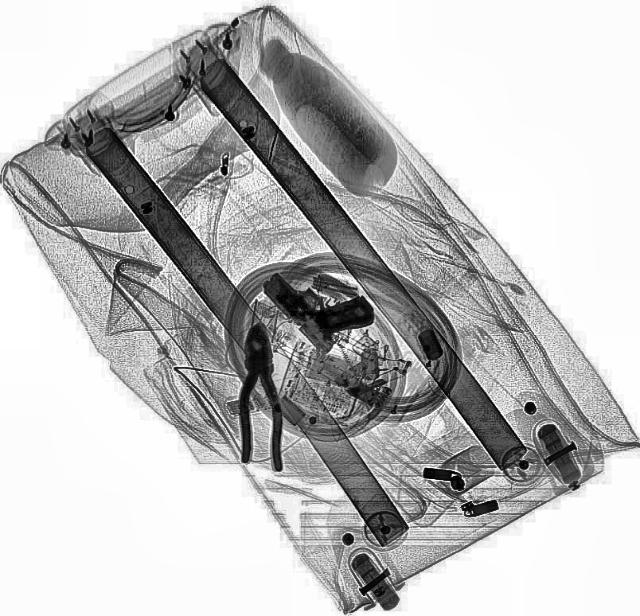Gun: (254, 244, 380, 356)
Pliers: (235, 321, 282, 471)
